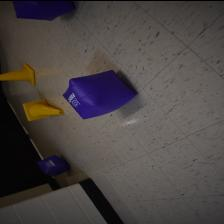cone: (22, 98, 64, 120), (0, 62, 35, 84)
cube: (62, 68, 138, 119), (11, 0, 75, 20), (36, 153, 70, 176)
